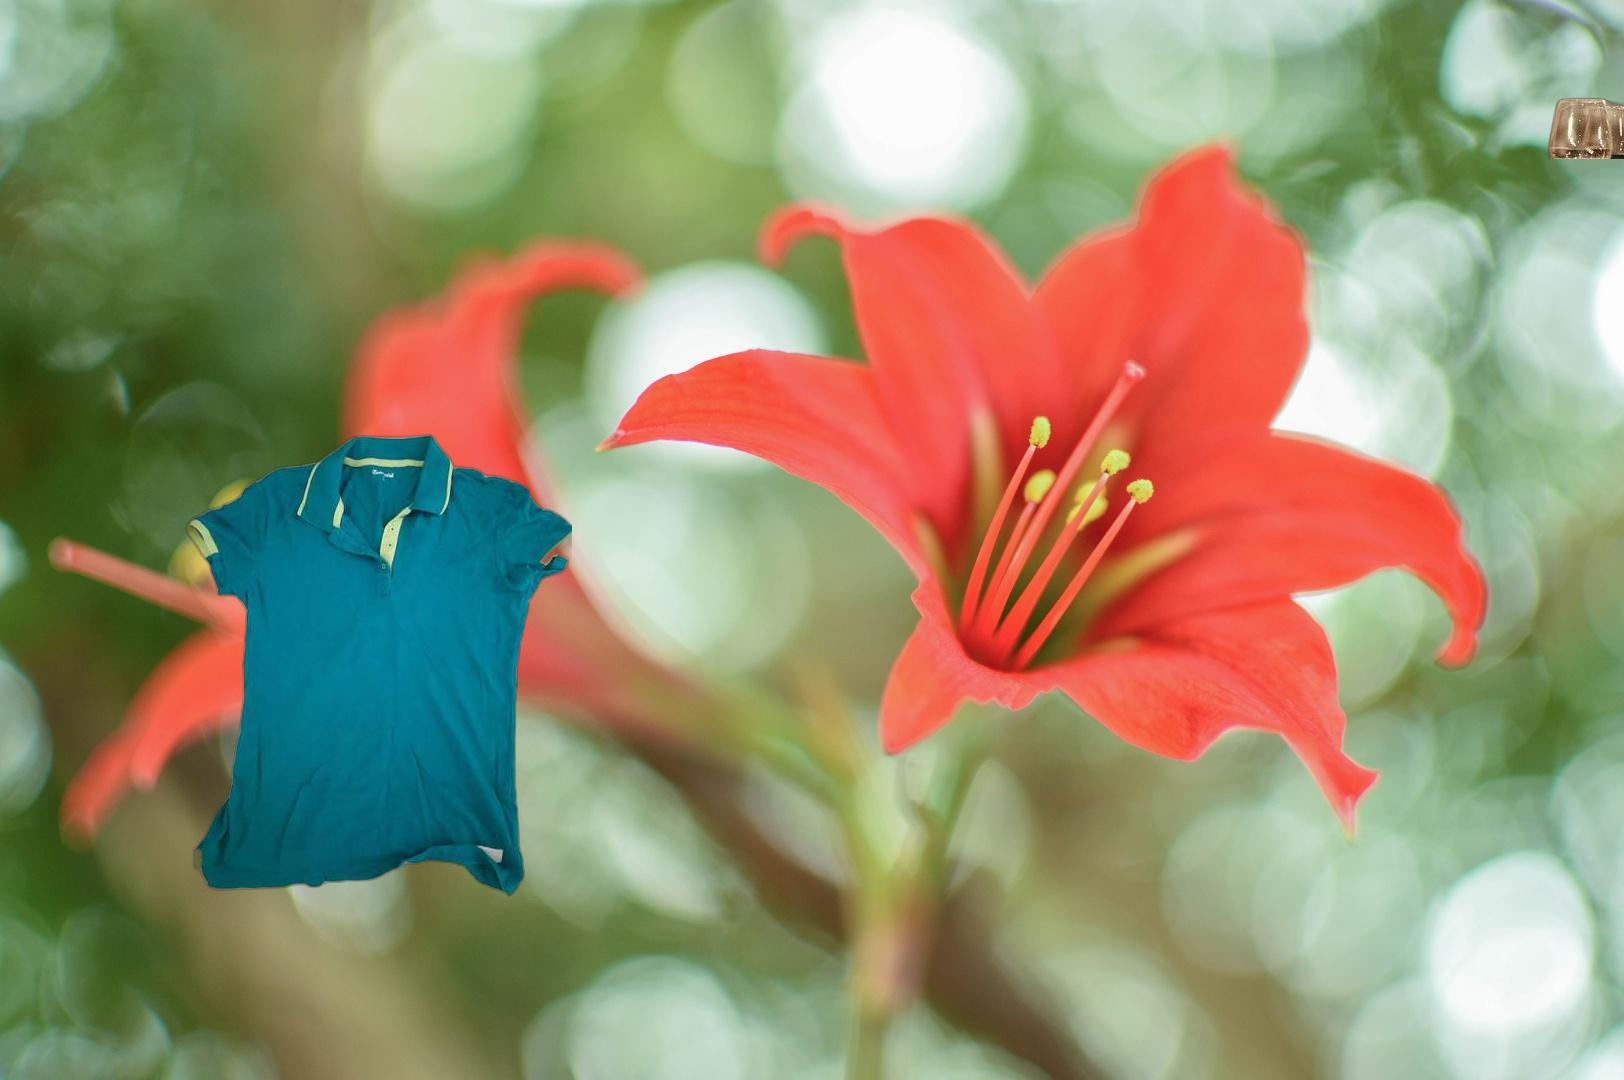clothes: (183, 432, 572, 902)
paper-bag: (1546, 96, 1624, 159)
